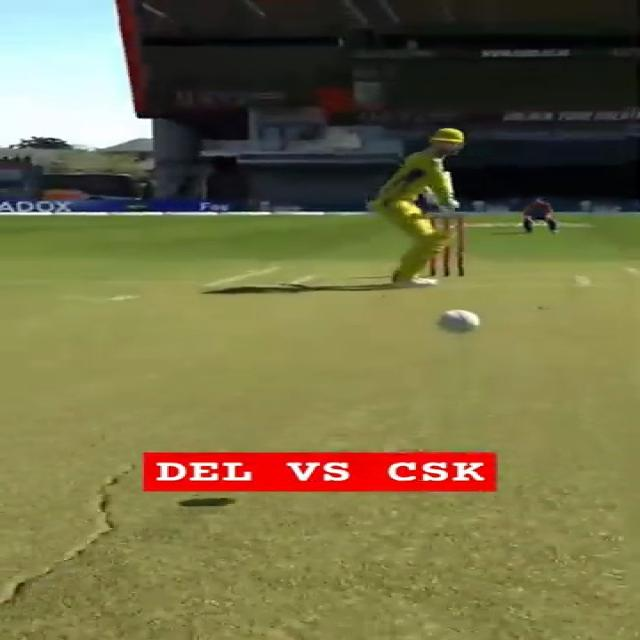ball: (430, 308, 482, 336)
